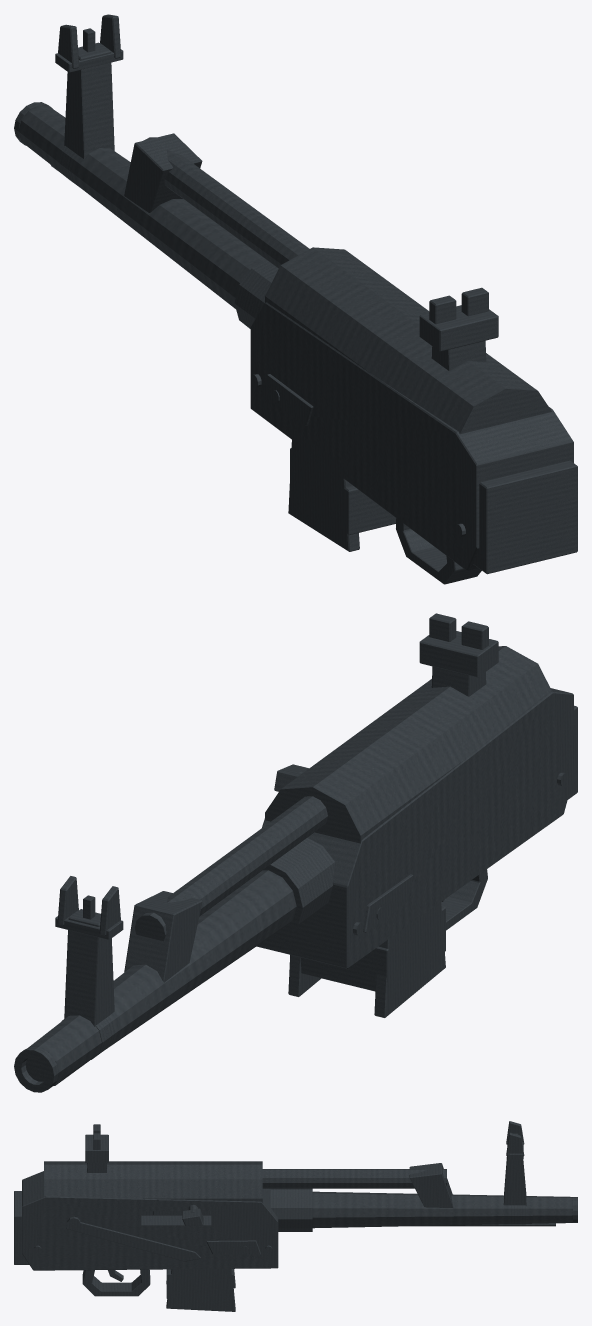
File: weapon_saiga12k.glb
The picture shows the model from 3 angles, top to bottom: view 1: azimuth 30°, elevation 25°; view 2: azimuth 150°, elevation 25°; view 3: azimuth 270°, elevation 25°; orthographic projection. The views are drawn at different scales.
Parts seen in each view (by area): view 1: body_LOD0; view 2: body_LOD0; view 3: body_LOD0, action_LOD0.
Boxes of the visible parts, bbox=[...] form: body_LOD0: bbox=[14, 14, 577, 584]; body_LOD0: bbox=[14, 613, 577, 1092]; body_LOD0: bbox=[14, 1121, 577, 1311]; action_LOD0: bbox=[153, 1204, 210, 1225].
Size of what is drawn, in the model's own units: 0.1505 by 0.3026 by 0.903.
Materials: 1 (1 with a texture image).
